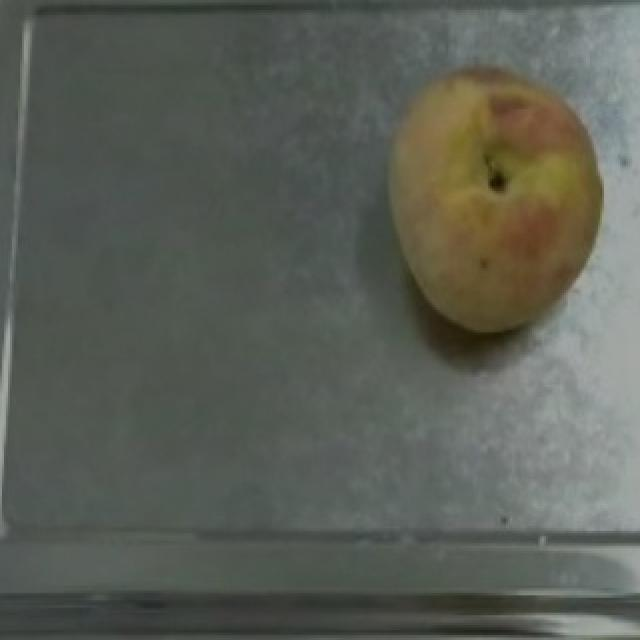Fruit: (366, 49, 622, 344)
